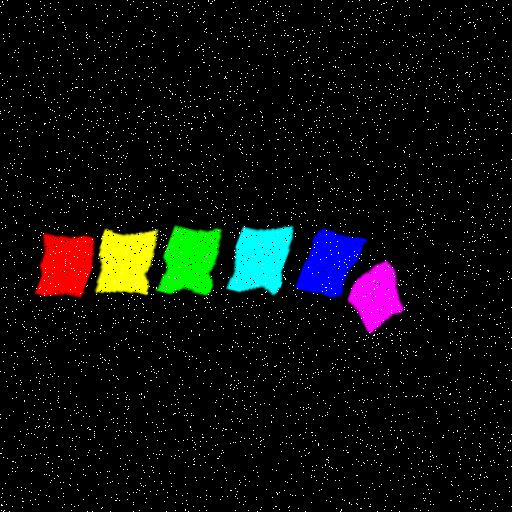L1: (42, 234, 99, 297)
L2: (103, 231, 162, 297)
L3: (164, 228, 227, 297)
L4: (234, 229, 299, 297)
L5: (301, 231, 370, 298)
S1: (353, 265, 409, 336)
